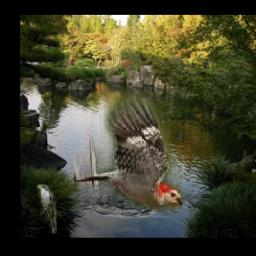Cuckoo: (37, 185, 57, 233)
Woodpecker: (75, 91, 183, 210)
